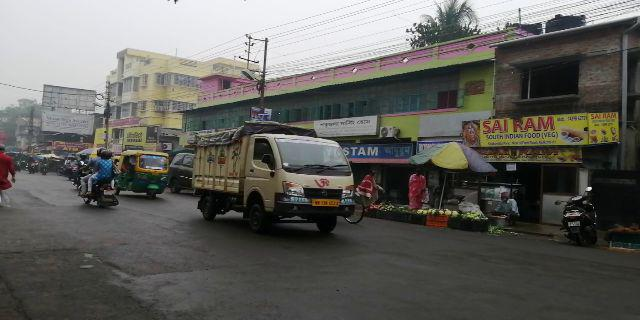Autorickshaw: (134, 151, 170, 199)
Minitruck: (195, 125, 356, 237)
Motorbike: (75, 149, 127, 211)
